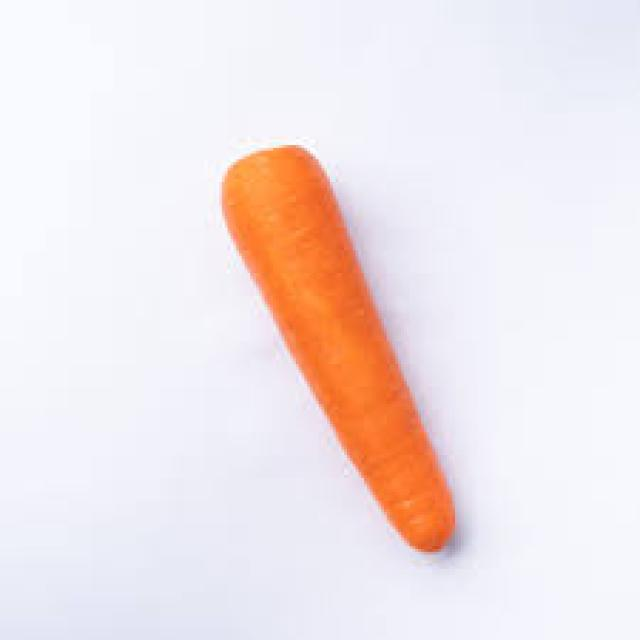carrot: (219, 142, 455, 552)
